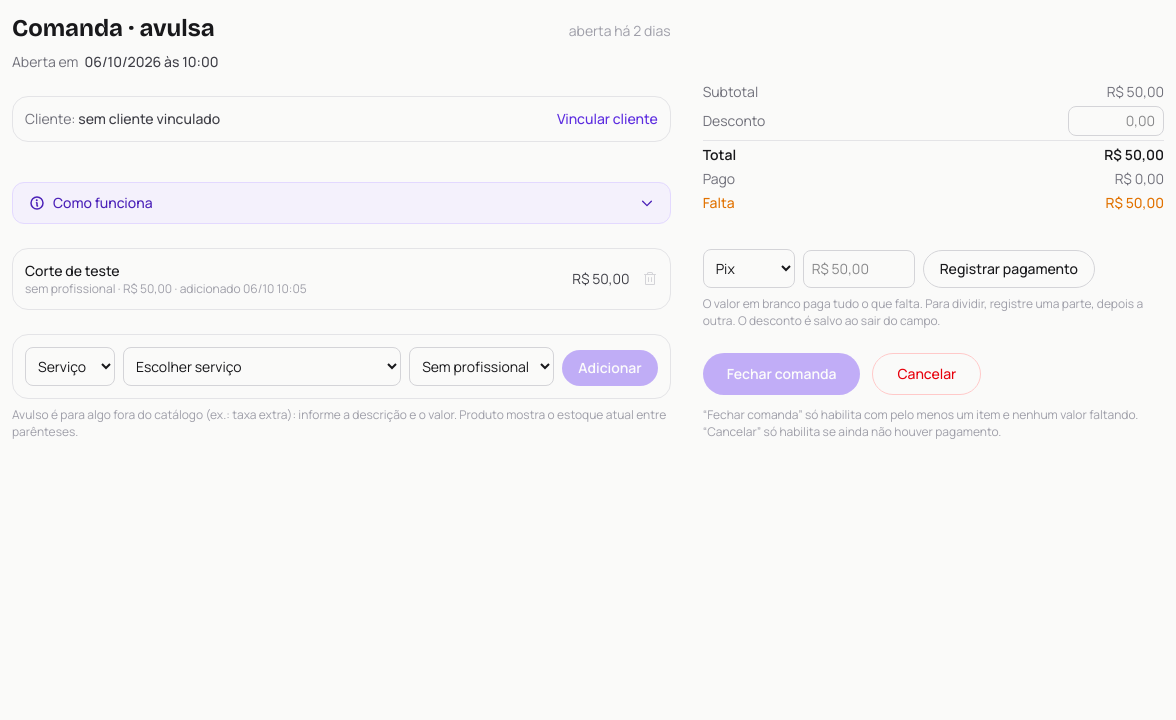
TicketPdv › sem cliente: oferece 'Vincular cliente', busca e vincula o escolhido
The width and height of the screenshot is (1176, 720).
Expected: the text "sem cliente vinculado" is shown, [78,109,220,128]
Click the button "Vincular cliente": coordinates (607, 119) [557,109,658,129]
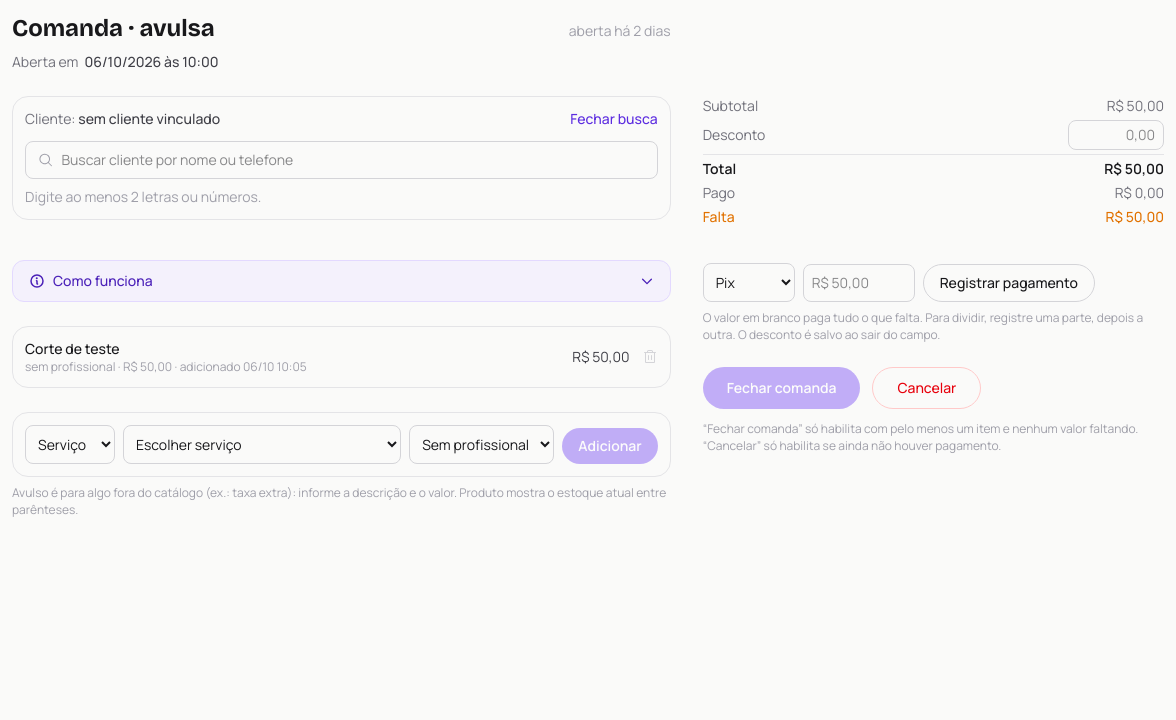
In the field labelled "Buscar cliente": coordinates (353, 160) [61,150,645,170], type "carla"
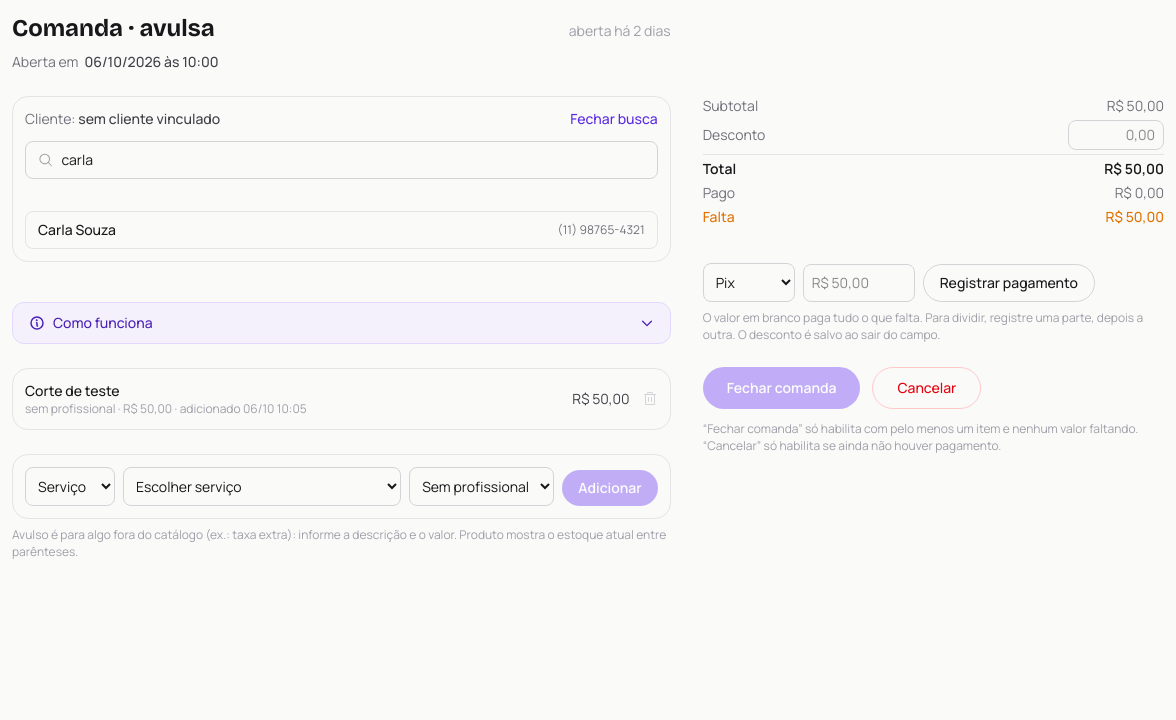
Click the button "Carla Souza (11) 98765-4321": coordinates (77, 230) [26,212,657,248]
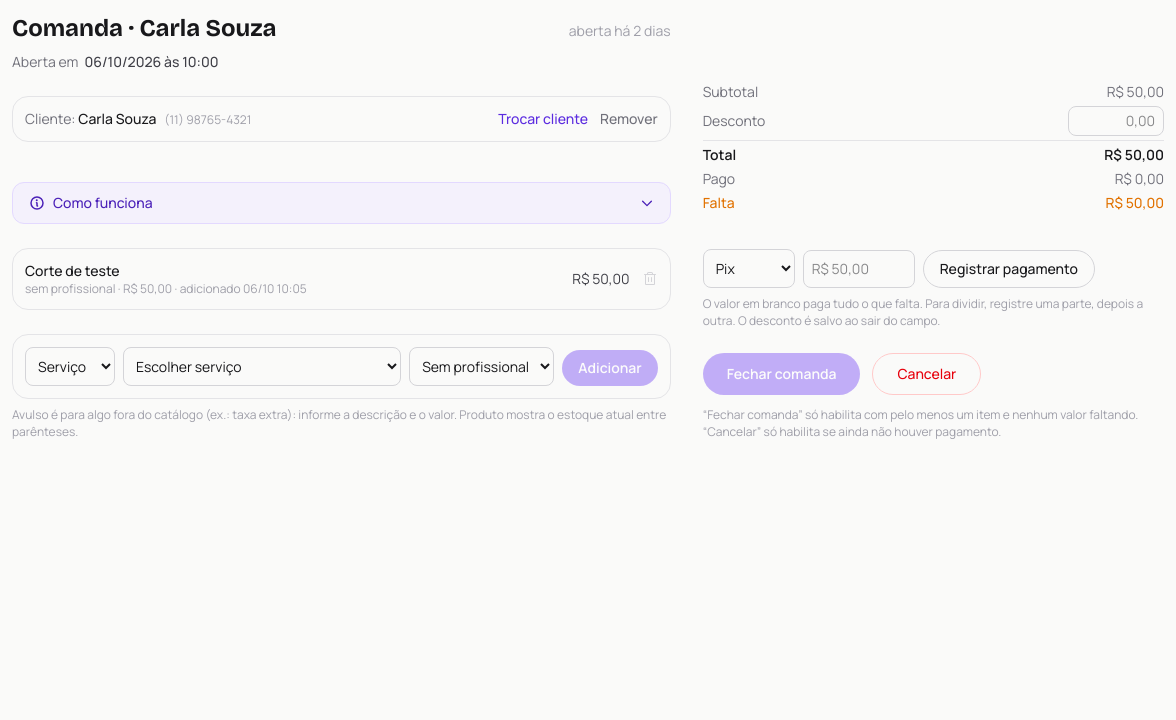
Now the button "Trocar cliente" is shown, box [498,109,588,129]
